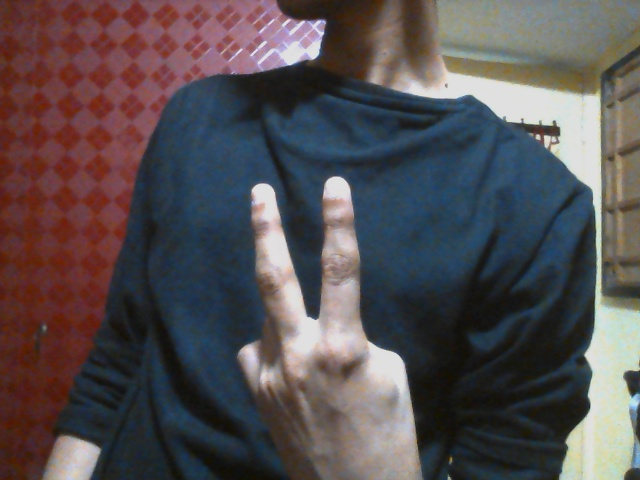V: (234, 175, 422, 452)
